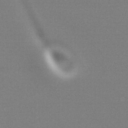normal: (16, 1, 54, 44)
